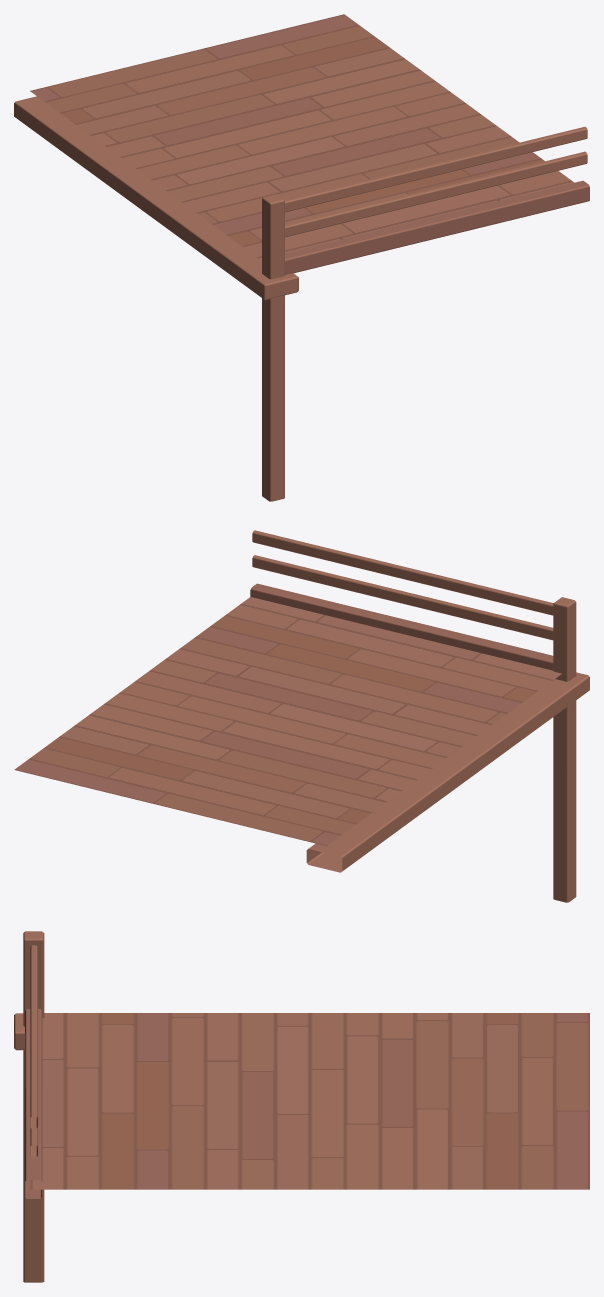
File: BoardWalkSide2Left.fbx
3 views of the same model, one above another, from view 1: azimuth 30°, elevation 25°; view 2: azimuth 150°, elevation 25°; view 3: azimuth 270°, elevation 25° (orthographic). The views are drawn at different scales.
Parts seen in each view (by area): view 1: BoardWalkSide2Left; view 2: BoardWalkSide2Left; view 3: BoardWalkSide2Left.
Boxes of the visible parts, x1,y1,x2,y2 form: BoardWalkSide2Left: (14, 14, 589, 501); BoardWalkSide2Left: (14, 530, 589, 902); BoardWalkSide2Left: (14, 931, 589, 1282).
Bounding box in the file's own units: 628 × 542 × 824.
